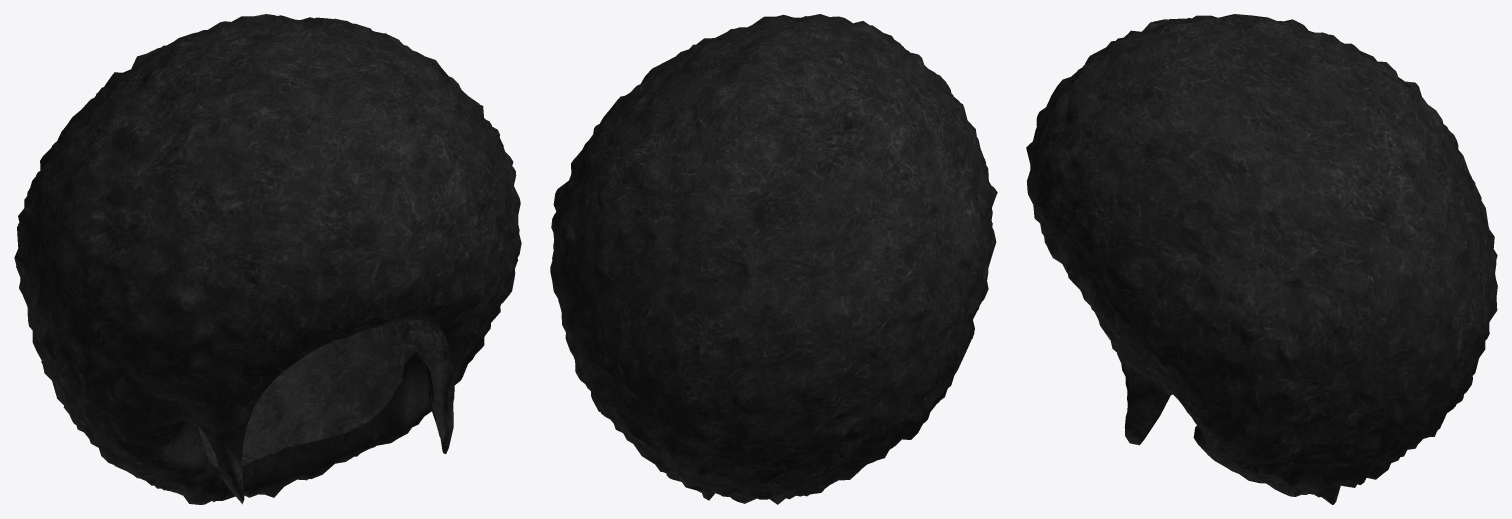
The model's file is afro.fbx.
The picture shows the model from 3 angles, left to right: view 1: azimuth 30°, elevation 25°; view 2: azimuth 150°, elevation 25°; view 3: azimuth 270°, elevation 25°; orthographic projection. The views are drawn at different scales.
Visible parts, largest first — view 1: mesh.004; view 2: mesh.004; view 3: mesh.004.
Part boxes in pixels (x1,y1,x2,y2): mesh.004: [14, 14, 521, 504]; mesh.004: [550, 14, 997, 504]; mesh.004: [1026, 14, 1497, 504].
Bounding box in the file's own units: 32.69 × 34.53 × 32.72.
